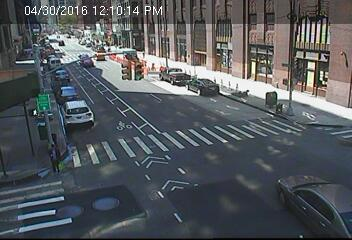neg: (106, 52, 133, 89), (151, 58, 176, 91), (45, 71, 63, 96)
pos: (39, 142, 63, 174)
